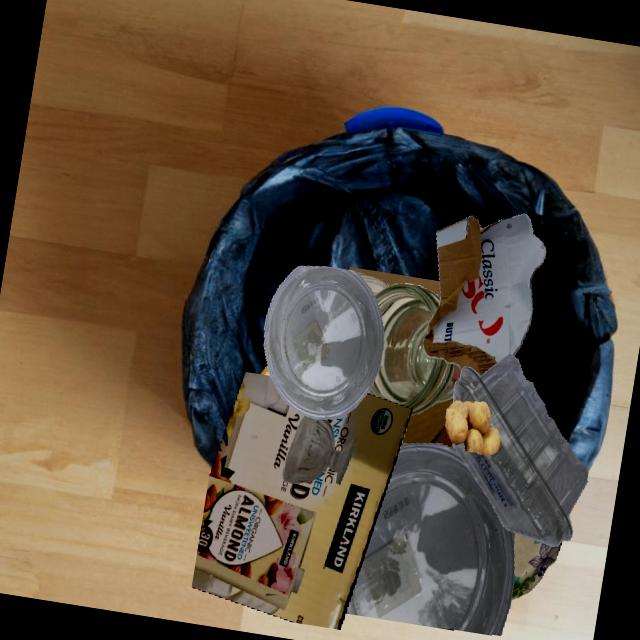biowaste: (446, 400, 500, 456), (260, 365, 268, 375)
cardboard: (192, 372, 413, 630), (423, 214, 546, 376), (511, 532, 562, 600), (348, 267, 441, 299), (401, 397, 453, 448)
glass: (367, 283, 462, 415), (283, 416, 356, 485), (357, 273, 389, 296)
paper: (264, 371, 270, 376)
plastic: (345, 443, 514, 636), (453, 353, 588, 547), (264, 266, 384, 420), (510, 531, 514, 546), (452, 442, 456, 449)
